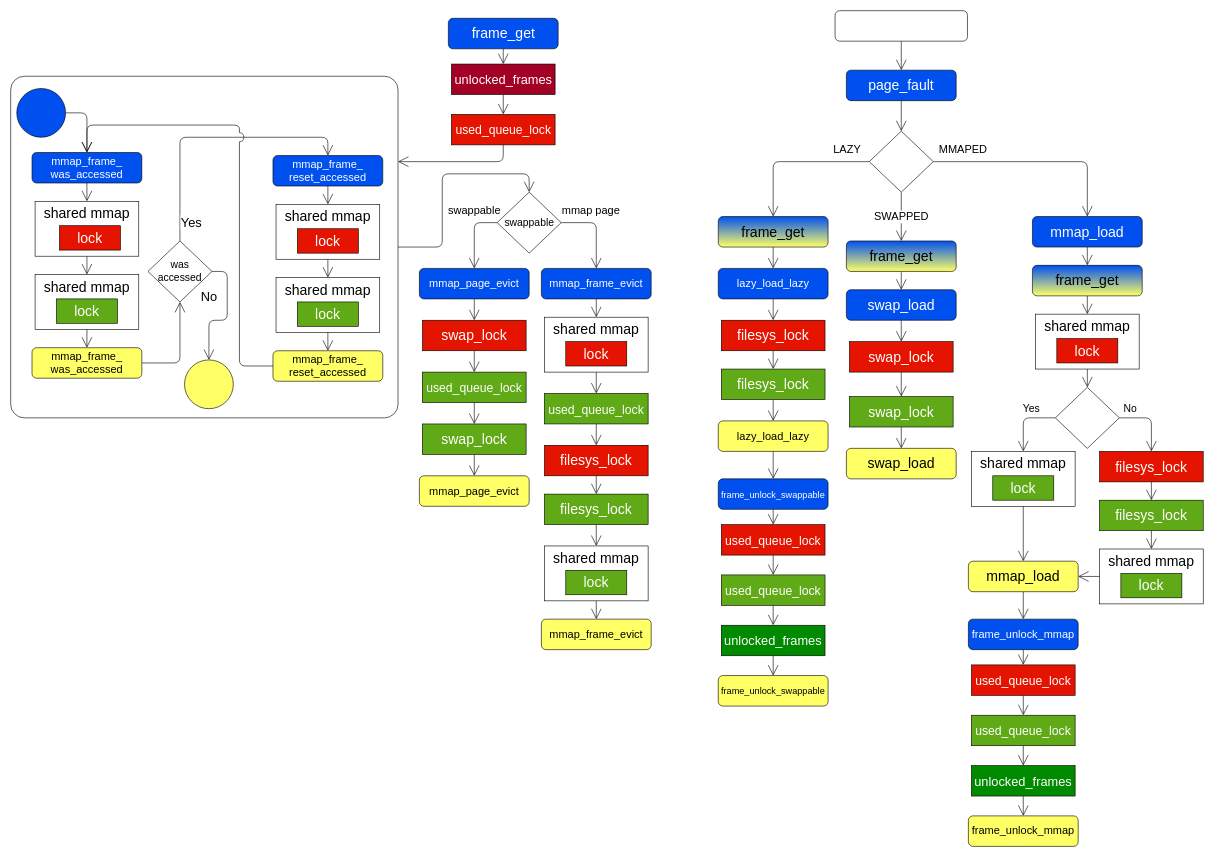
The diagram is 1214 pixels wide and 857 high, and some of its shapes have lost their labels. Each missing label, with the box of its shape:
end: (184, 359, 233, 409)
entry type: (869, 131, 933, 192)
MMU - Page Fault: (834, 10, 967, 41)
paged in: (1055, 387, 1119, 448)
second chance loop: (10, 76, 398, 418)
start: (16, 88, 66, 137)
